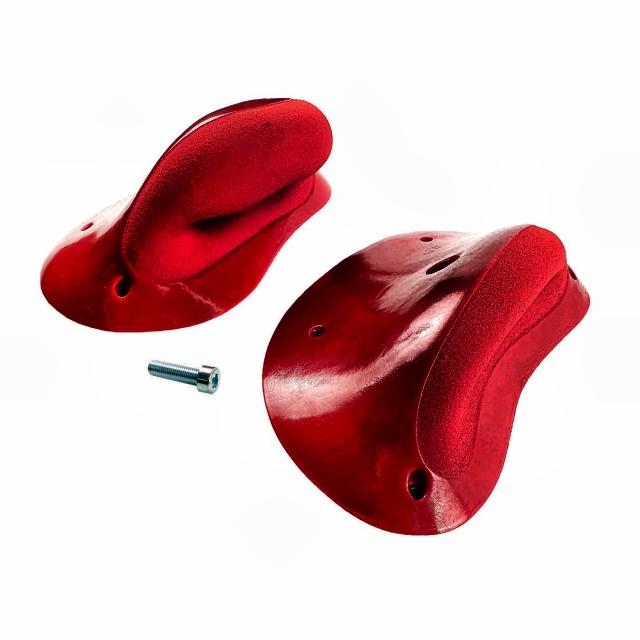Hold: (258, 219, 589, 540), (21, 84, 333, 336)
